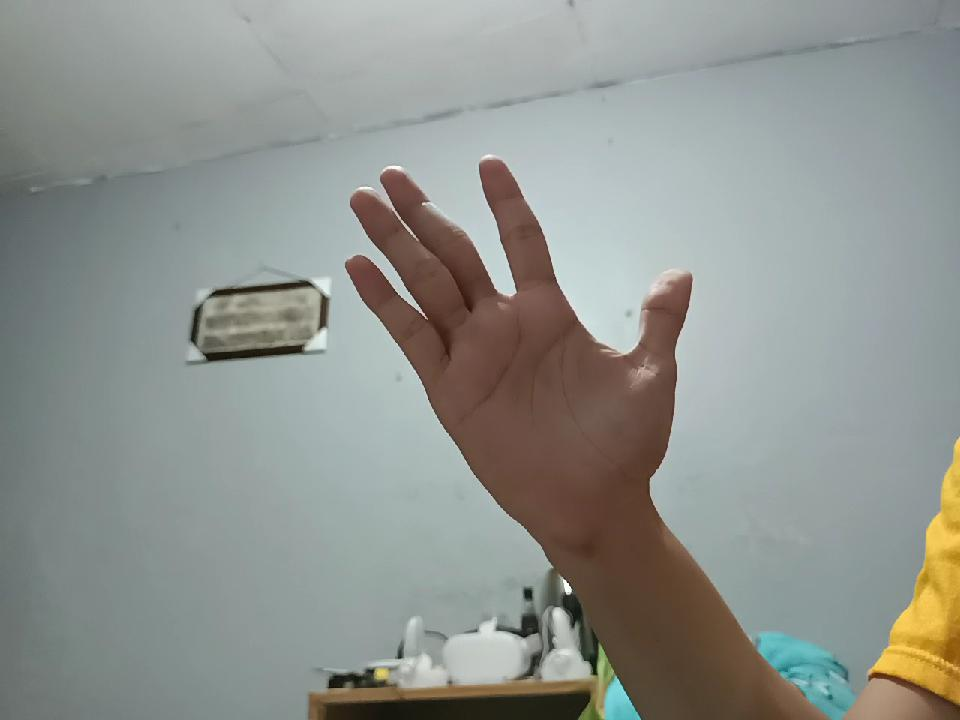paper: (359, 146, 689, 534)
